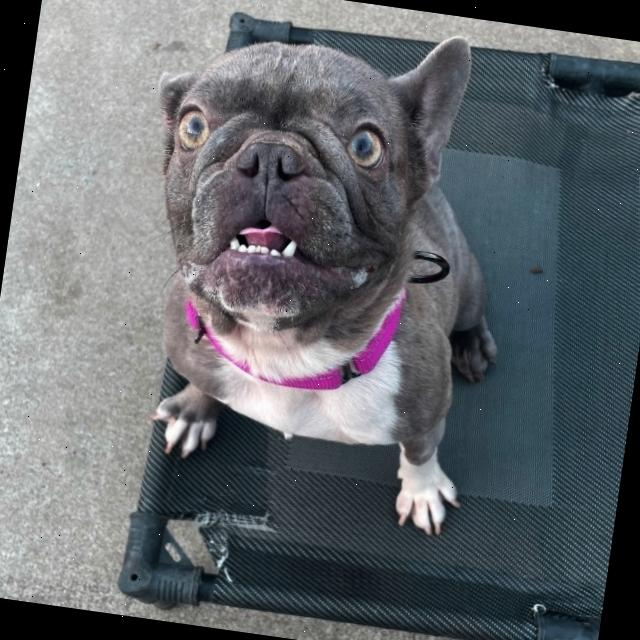french_bulldog_dog: (118, 0, 481, 371)
